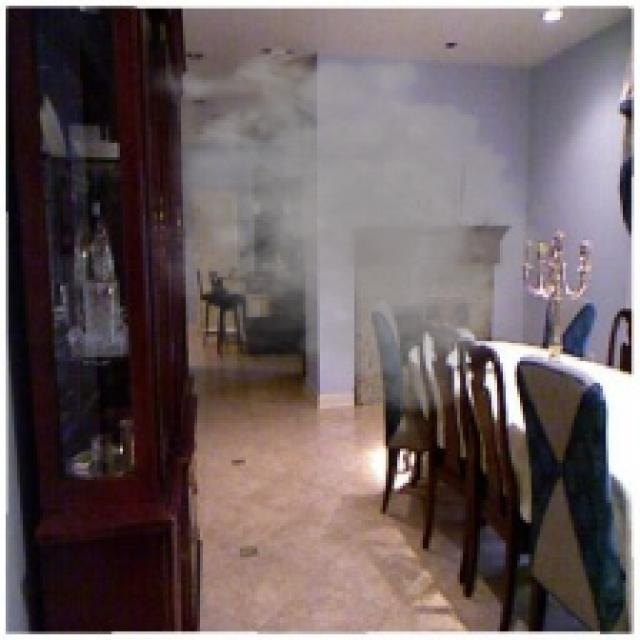smoke: (134, 31, 560, 426)
